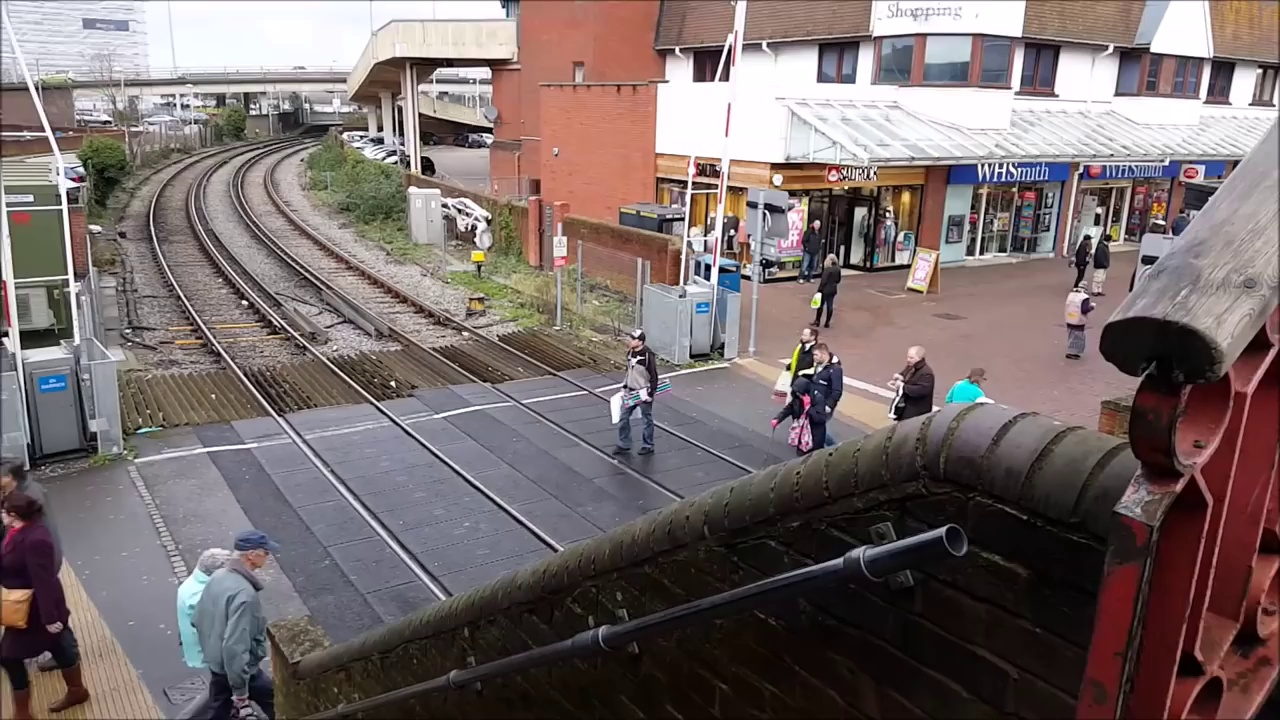person: (166, 535, 280, 720), (0, 496, 72, 699), (226, 531, 309, 663), (774, 345, 834, 454), (620, 333, 665, 454), (892, 348, 936, 419), (1076, 225, 1112, 294), (813, 261, 845, 330), (1062, 289, 1091, 358), (947, 369, 995, 404)
